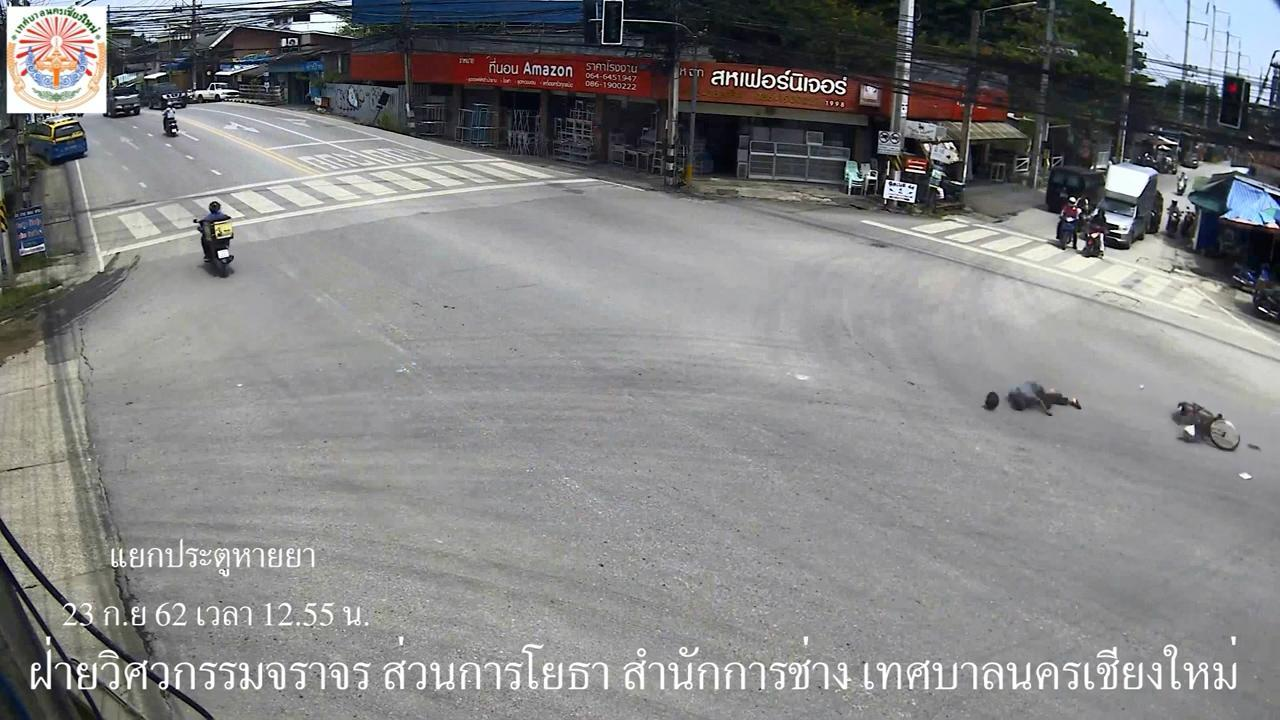accident: (1005, 369, 1086, 422)
